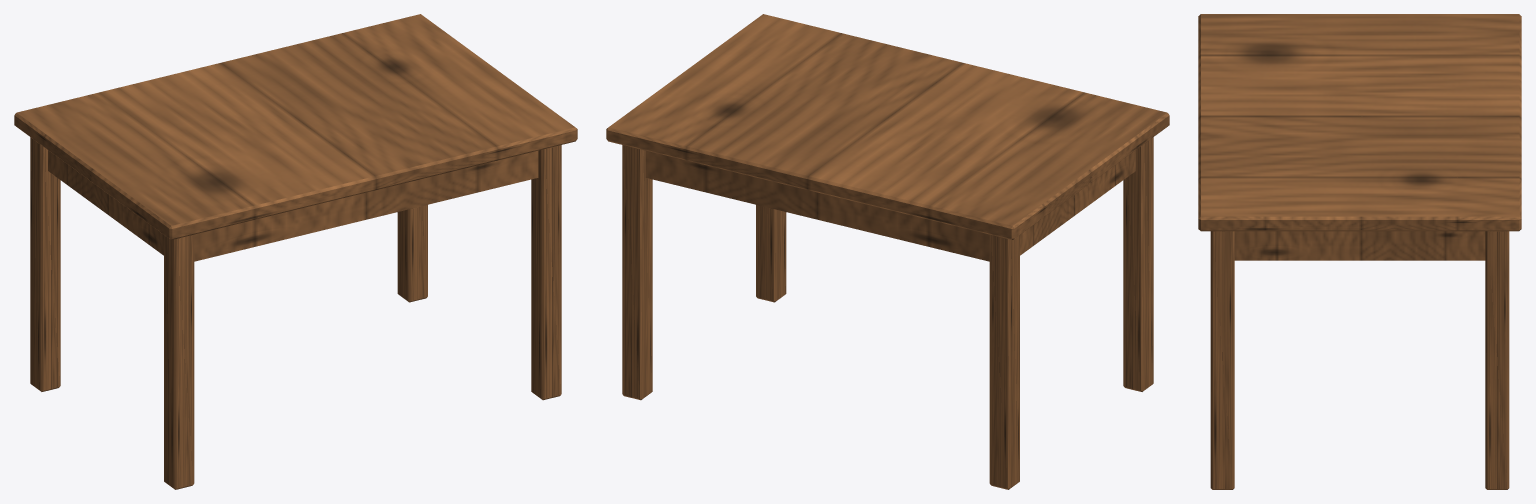
Rendered from OB_Stol.fbx.
3 views of the same model, side by side, from view 1: azimuth 30°, elevation 25°; view 2: azimuth 150°, elevation 25°; view 3: azimuth 270°, elevation 25° (orthographic). The views are drawn at different scales.
Visible parts, largest first — view 1: Stol; view 2: Stol; view 3: Stol.
Part boxes in pixels (left/top/right/bottom): Stol: left=14, top=14, right=577, bottom=489; Stol: left=606, top=14, right=1169, bottom=489; Stol: left=1198, top=14, right=1521, bottom=489.
Bounding box in the file's own units: 1.2 × 0.76 × 0.8.
